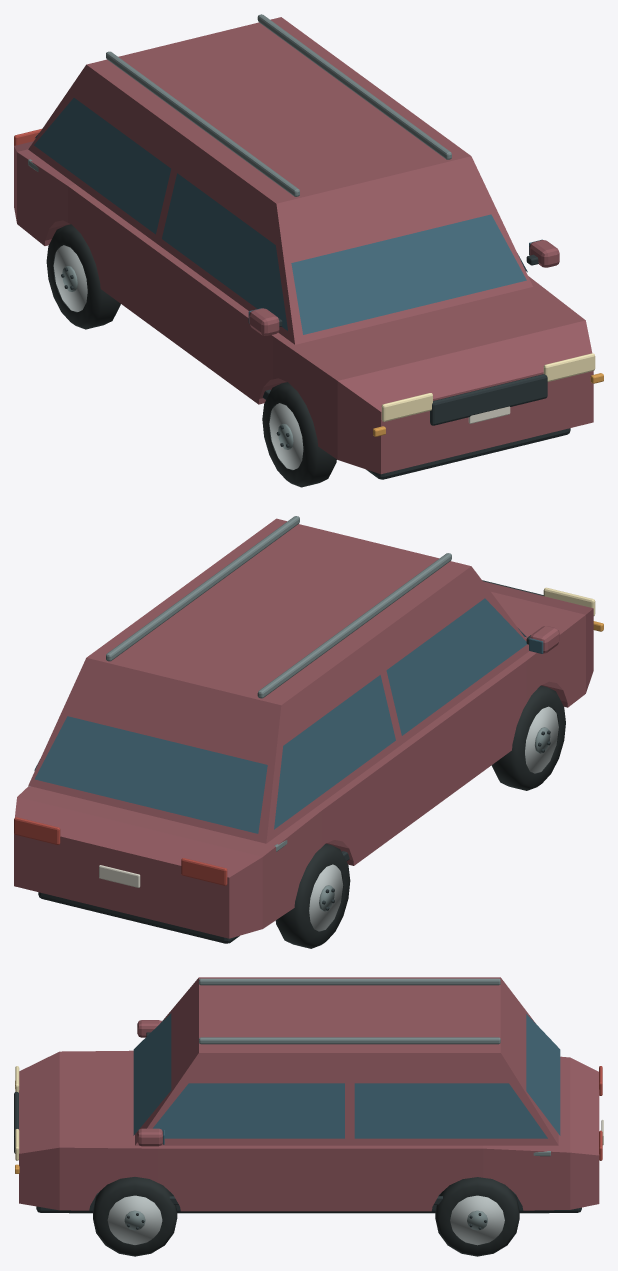
Rendered from original-car-suv-06.glb.
The picture shows the model from 3 angles, top to bottom: view 1: azimuth 30°, elevation 25°; view 2: azimuth 150°, elevation 25°; view 3: azimuth 270°, elevation 25°; orthographic projection. The views are drawn at different scales.
Parts seen in each view (by area): view 1: CabinShell, BodyShell, Windscreen, WindowFront, WindowRear, Tyre_FR, Tyre_RR, Grille, RoofRail.001, RoofRail, Rim_FR, Rim_RR (+5 smaller); view 2: CabinShell, BodyShell, RearGlass, WindowFront, WindowRear, Tyre_RR, Tyre_FR, RoofRail, RoofRail.001, Rim_FR, Rim_RR, Frame (+3 smaller); view 3: BodyShell, CabinShell, WindowFront.001, WindowRear.001, Tyre_FL, Tyre_RL, Windscreen, RearGlass, RoofRail, RoofRail.001, Rim_RL, Rim_FL (+2 smaller).
Boxes of the visible parts, x1,y1,x2,y2 form: CabinShell: [28, 17, 532, 344]; BodyShell: [14, 141, 593, 474]; Windscreen: [291, 214, 526, 334]; WindowFront: [162, 173, 287, 330]; WindowRear: [34, 98, 170, 234]; Tyre_FR: [262, 382, 336, 487]; Tyre_RR: [46, 224, 120, 329]; Grille: [430, 374, 547, 425]; RoofRail.001: [257, 14, 451, 159]; RoofRail: [106, 51, 299, 196]; Rim_FR: [269, 403, 303, 469]; Rim_RR: [53, 245, 87, 311]; CabinShell: [28, 518, 529, 843]; BodyShell: [14, 581, 593, 938]; RearGlass: [35, 716, 267, 833]; WindowFront: [386, 598, 527, 735]; WindowRear: [274, 675, 395, 829]; Tyre_RR: [275, 843, 350, 948]; Tyre_FR: [491, 685, 565, 790]; RoofRail: [257, 553, 451, 698]; RoofRail.001: [106, 516, 299, 661]; Rim_FR: [525, 706, 558, 773]; Rim_RR: [309, 864, 343, 931]; Frame: [38, 892, 239, 943]; BodyShell: [19, 1050, 599, 1211]; CabinShell: [135, 977, 558, 1145]; WindowFront.001: [153, 1083, 344, 1138]; WindowRear.001: [354, 1083, 547, 1138]; Tyre_FL: [93, 1177, 177, 1256]; Tyre_RL: [435, 1177, 519, 1256]; Windscreen: [133, 1013, 171, 1135]; RearGlass: [526, 1014, 560, 1135]; RoofRail: [199, 978, 500, 985]; RoofRail.001: [199, 1037, 500, 1044]; Rim_RL: [450, 1195, 504, 1245]; Rim_FL: [107, 1195, 162, 1244].
Size of the model in its own units: 2.33 by 1.89 by 5.03.
